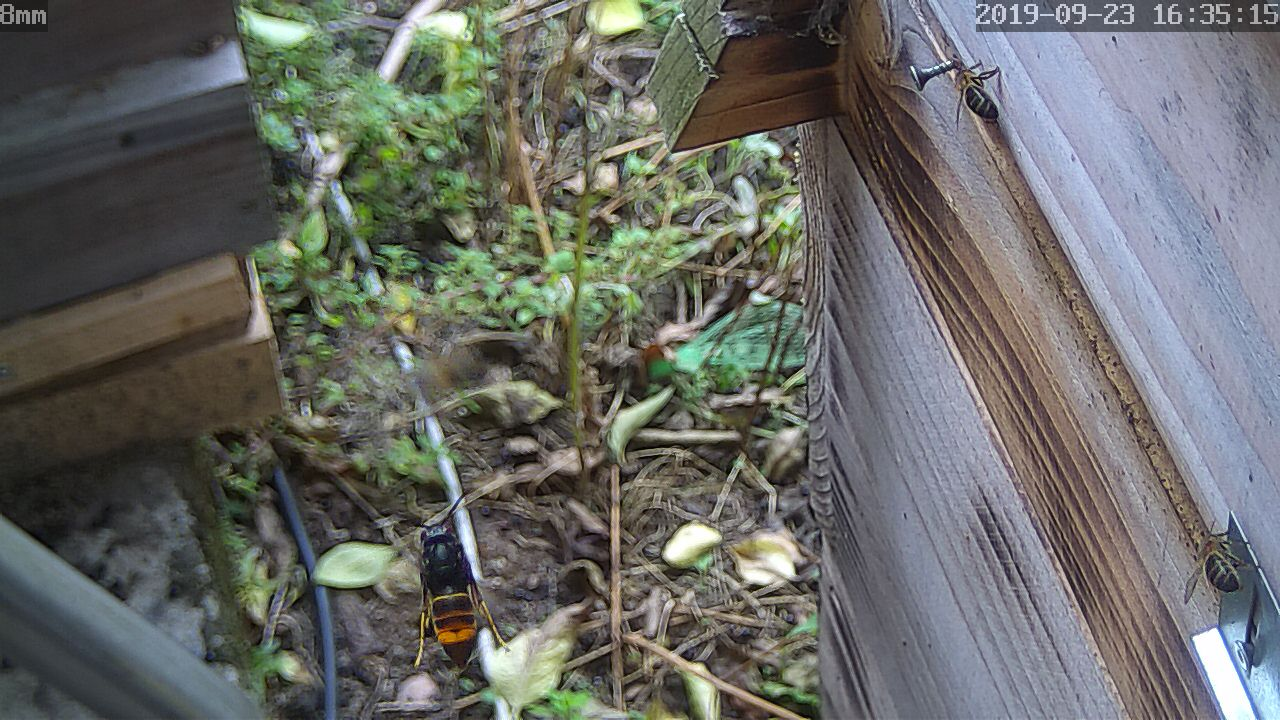bee: (1186, 518, 1255, 609), (945, 62, 1012, 122)
hornet: (398, 515, 504, 673)
